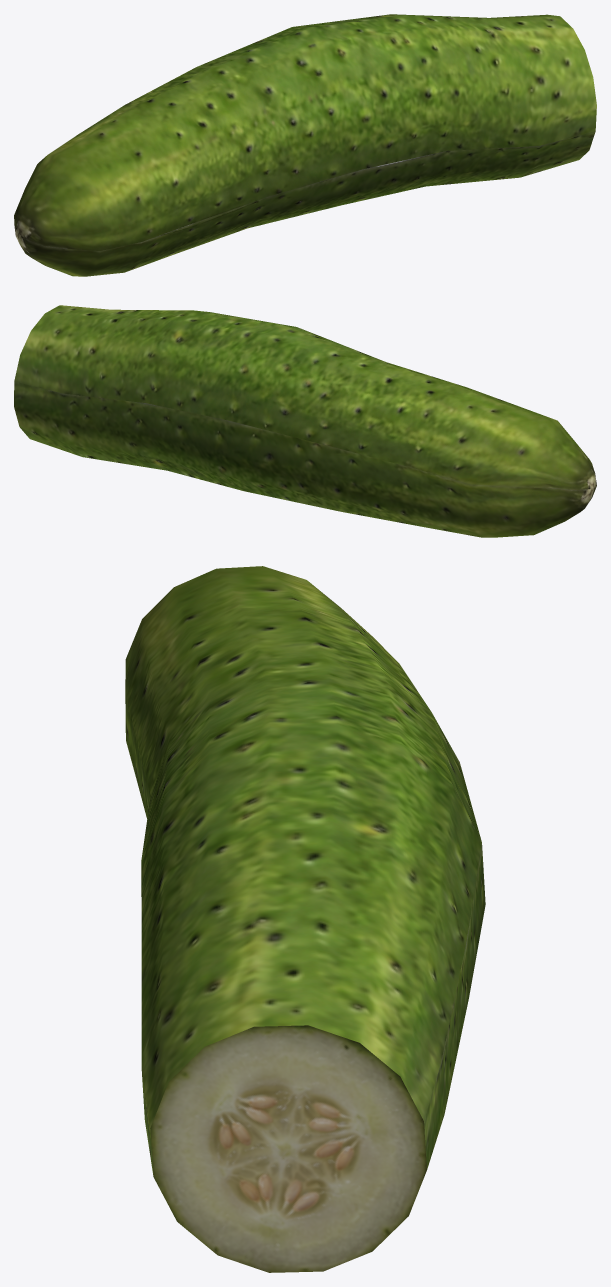
The model's file is cucumber_1.fbx.
3 views of the same model, one above another, from view 1: azimuth 30°, elevation 25°; view 2: azimuth 150°, elevation 25°; view 3: azimuth 270°, elevation 25° (orthographic). The views are drawn at different scales.
Visible parts, largest first — view 1: Cylinder.009; view 2: Cylinder.009; view 3: Cylinder.009.
Part boxes in pixels (x1,y1,x2,y2): Cylinder.009: (14,14,596,276); Cylinder.009: (14,305,596,537); Cylinder.009: (125,566,485,1272).
Size of the model in its own units: 41.22 by 12.43 by 12.12.
